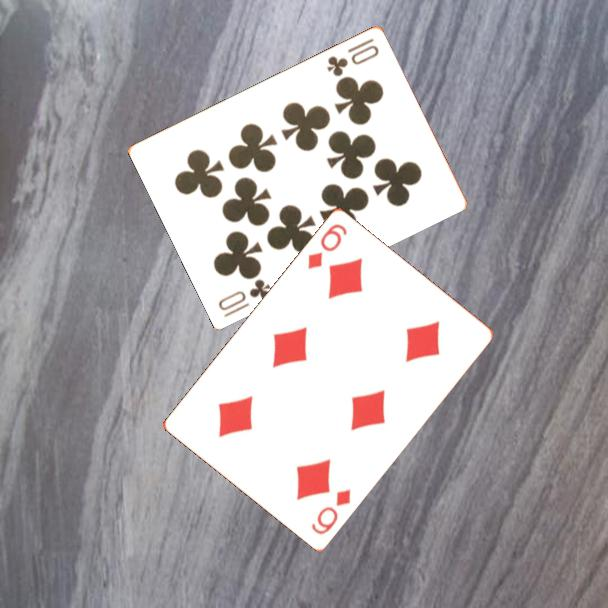c10: (323, 34, 382, 79), (215, 275, 274, 320)
d06: (304, 220, 350, 272), (308, 485, 354, 537)
